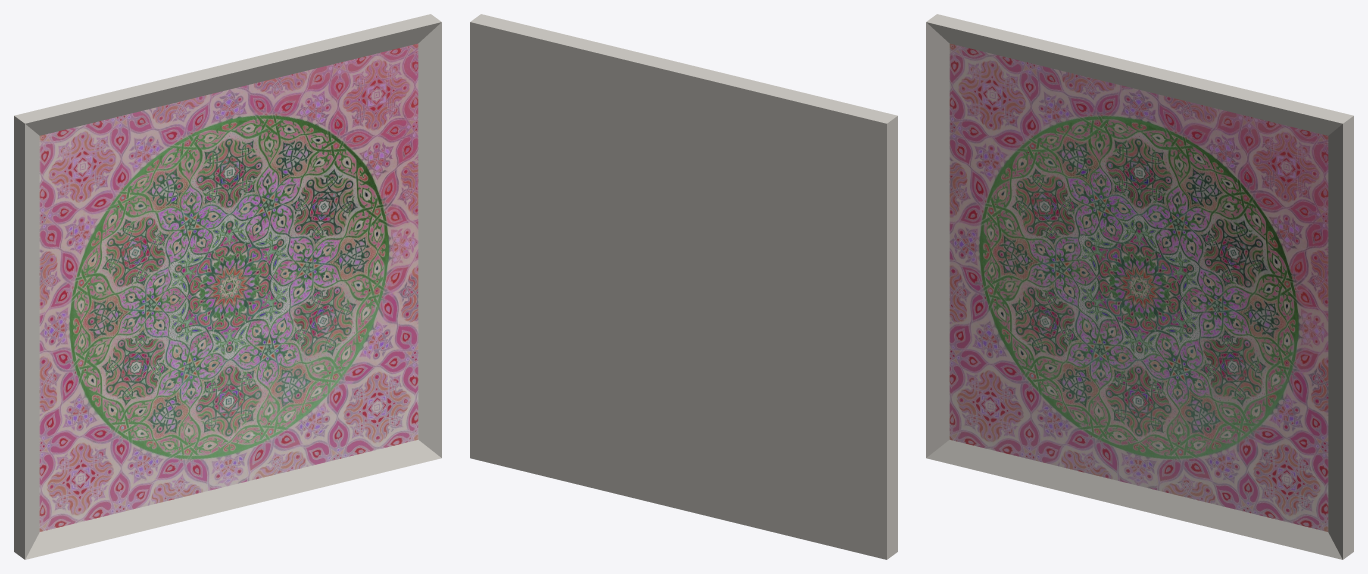
The model's file is peacock-minerva-peacock-mary-pink-a1-white-v2.glb.
3 renders of one model, left to right at view 1: azimuth 30°, elevation 25°; view 2: azimuth 150°, elevation 25°; view 3: azimuth 330°, elevation 25°, orthographic.
Parts seen in each view (by area): view 1: FramedPrint; view 2: FramedPrint; view 3: FramedPrint.
Boxes of the visible parts, <box> form: FramedPrint: <box>14,14,441,559</box>; FramedPrint: <box>470,14,897,559</box>; FramedPrint: <box>926,14,1353,559</box>.
Size of the model in its own units: 0.655 by 0.655 by 0.03.
2 materials, 1 textured.
